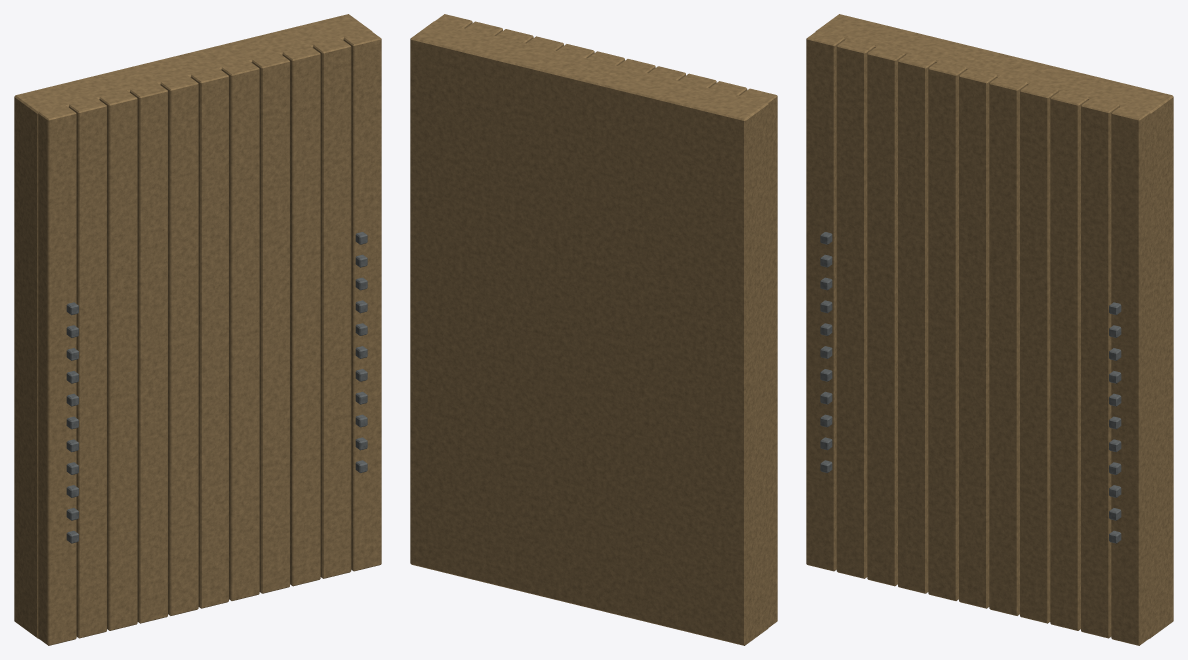
Rendered from TUNN21CC_lod0.glb.
3 renders of one model, left to right at view 1: azimuth 30°, elevation 25°; view 2: azimuth 150°, elevation 25°; view 3: azimuth 330°, elevation 25°, orthographic.
Parts seen in each view (by area): view 1: TUNN21CC_LOD0; view 2: TUNN21CC_LOD0; view 3: TUNN21CC_LOD0.
Boxes of the visible parts, box(x1,y1,x2,y2) form: TUNN21CC_LOD0: box(14, 14, 381, 645); TUNN21CC_LOD0: box(410, 14, 777, 645); TUNN21CC_LOD0: box(806, 14, 1173, 645).
Bounding box in the file's own units: 2 × 3 × 0.395.
Materials: 4 (4 with a texture image).
